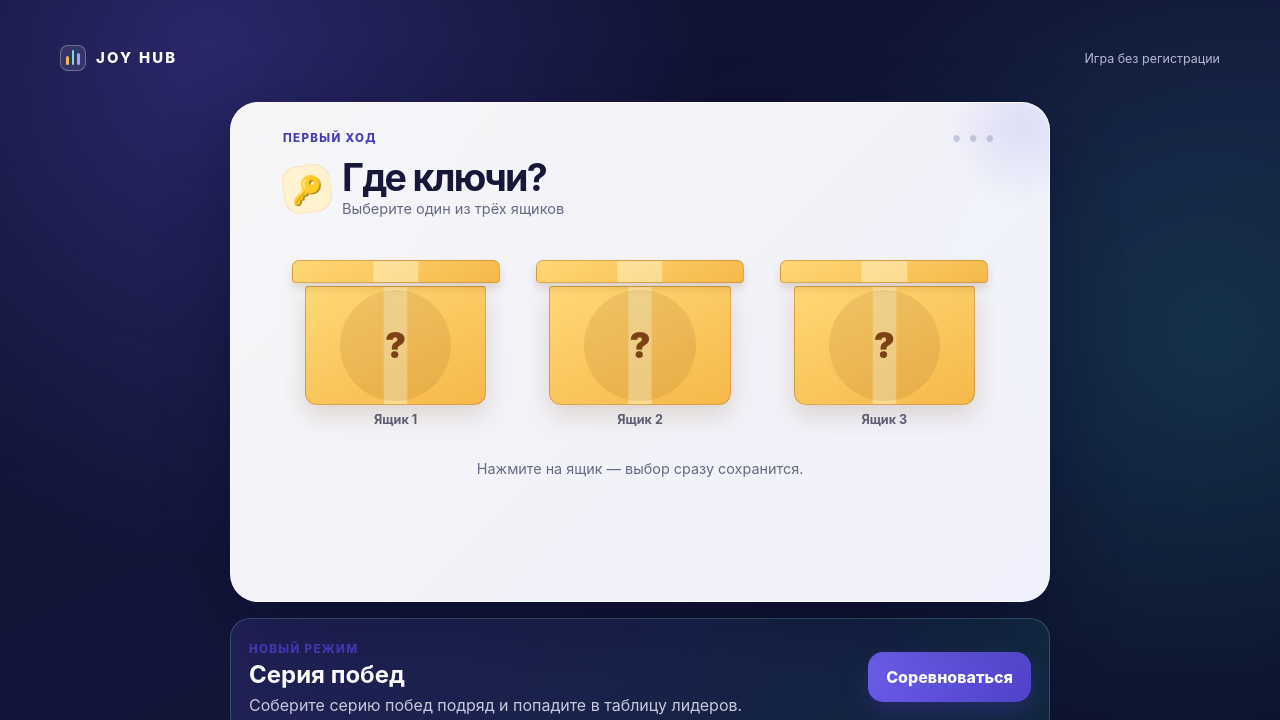
Scenario: Monty Hall application › sends STAY and displays a losing result
Click the button named "Выбрать ящик 3" at (884, 326), box [770,242,999,409]
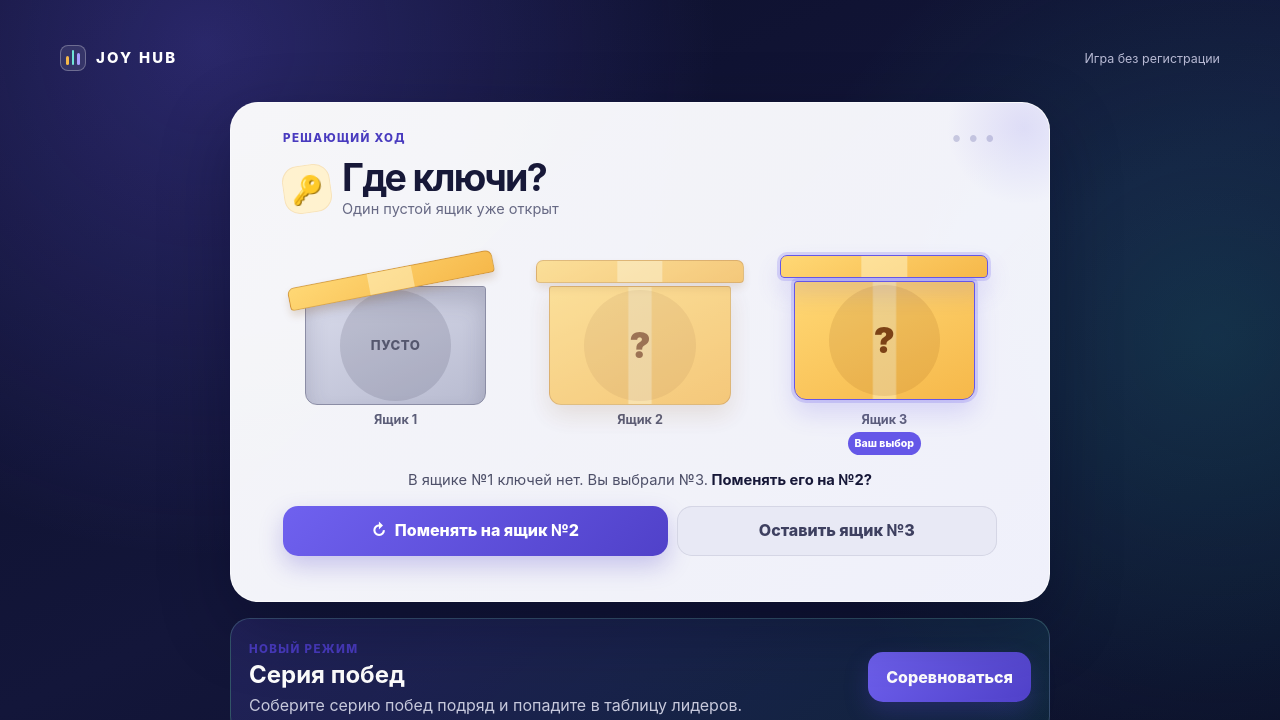
Click the button "Оставить ящик №3" at (837, 531), box [676,506,997,556]
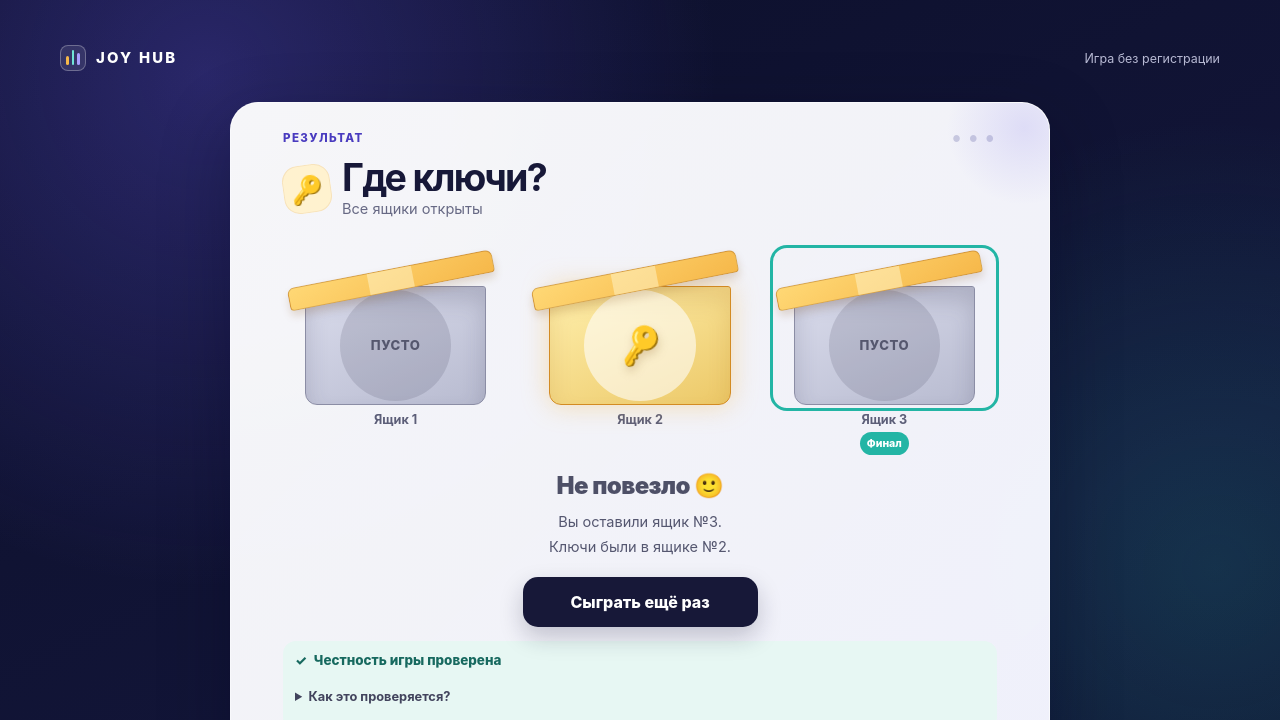
Now the text "Не повезло 🙂" is shown, box [557,471,723,500]
Now the text "Вы оставили ящик №3." is shown, box [558,513,722,531]
Now the text "Ключи были в ящике №2." is shown, box [549,538,731,556]
